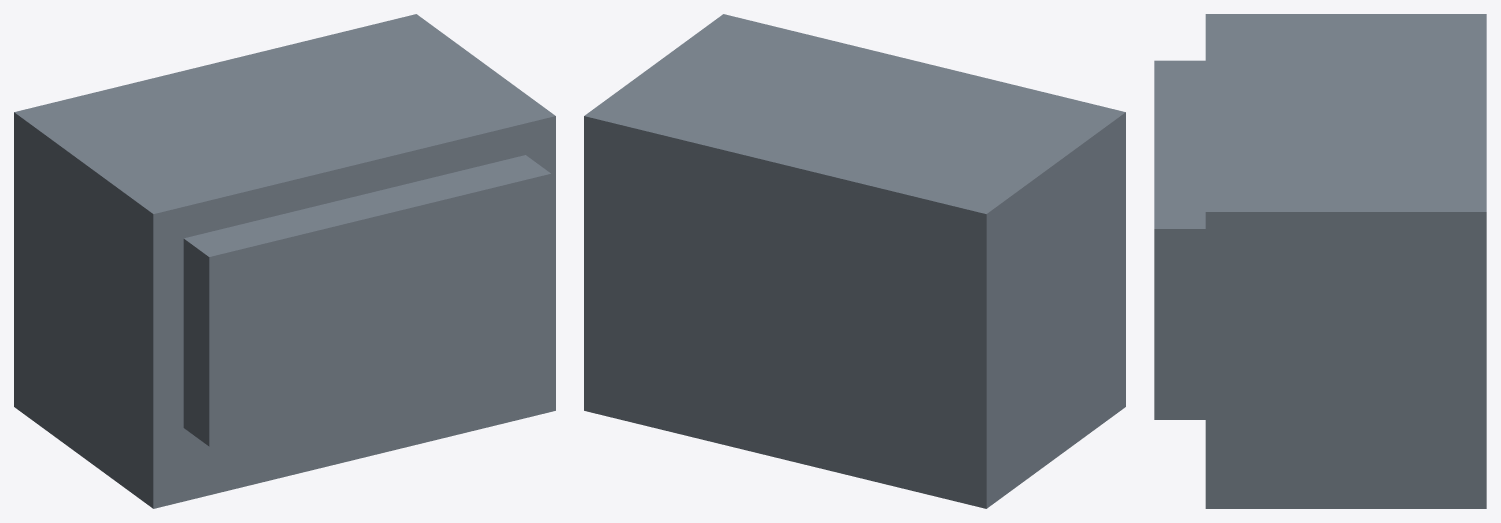
Rendered from body_line.obj.
3 renders of one model, left to right at view 1: azimuth 30°, elevation 25°; view 2: azimuth 150°, elevation 25°; view 3: azimuth 270°, elevation 25°, orthographic.
Size of the model in its own units: 1 by 0.7 by 0.71.
